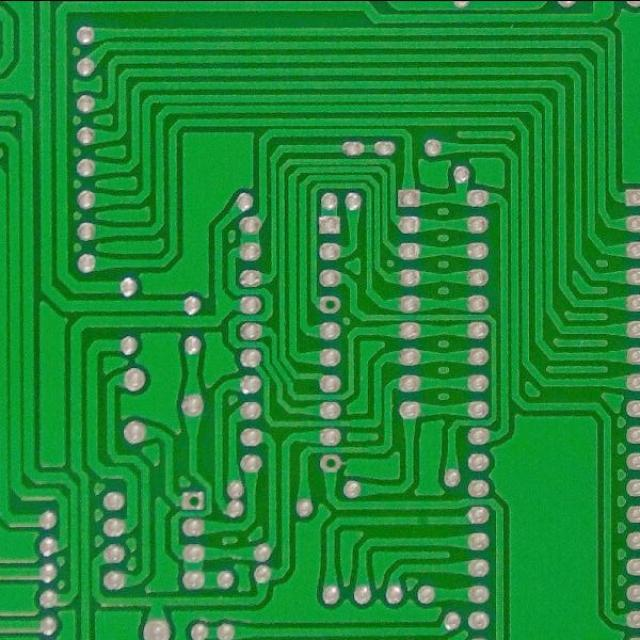Missing_Hole: (179, 487, 207, 512), (318, 452, 343, 475), (318, 292, 343, 315)
